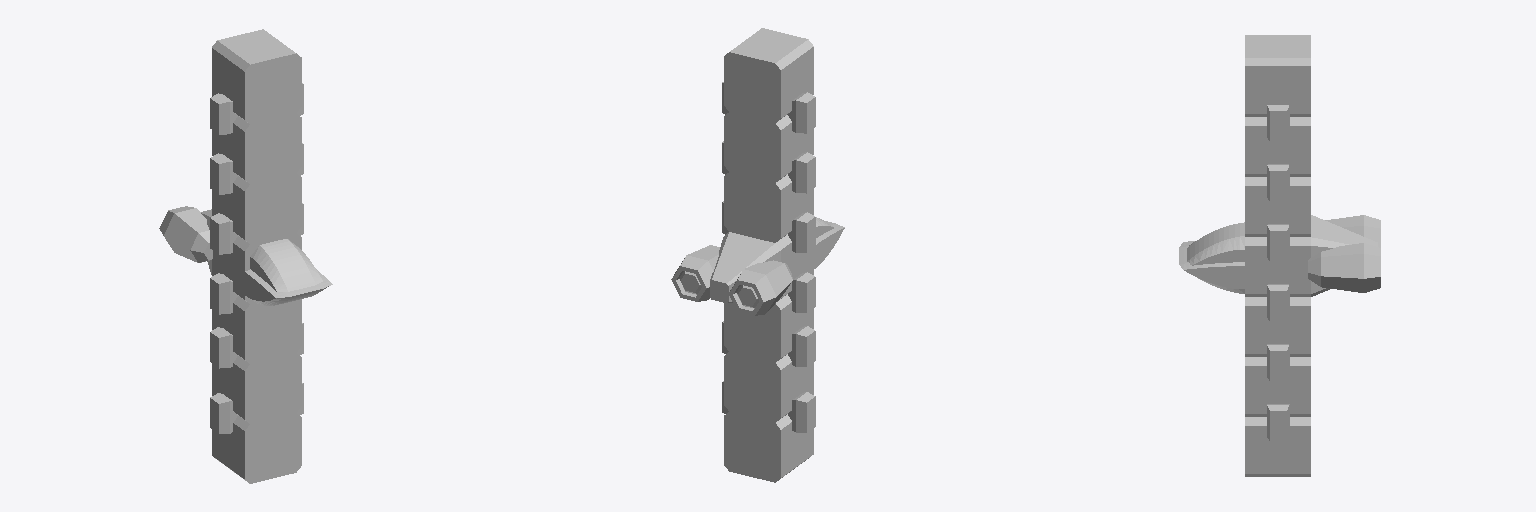
File: BGFreighterY7.obj
3 renders of one model, left to right at view 1: azimuth 30°, elevation 25°; view 2: azimuth 150°, elevation 25°; view 3: azimuth 270°, elevation 25°, orthographic.
Bounding box in the file's own units: 1.77 × 7 × 3.05.